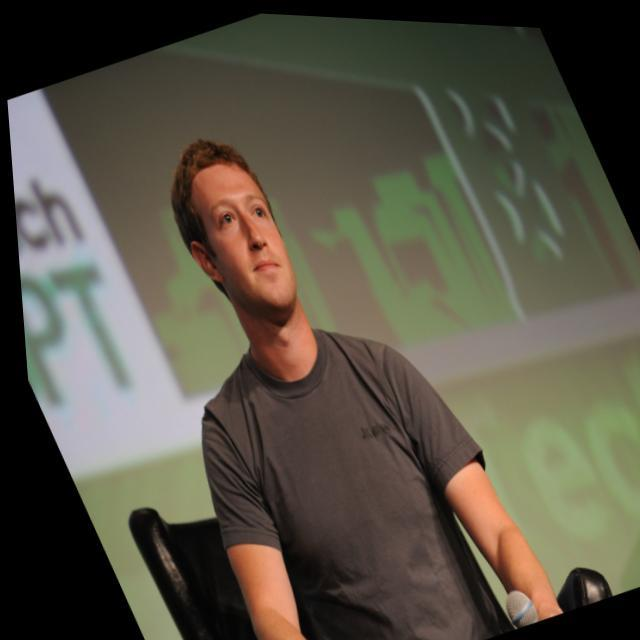Nonhelmet: (167, 134, 303, 320)
